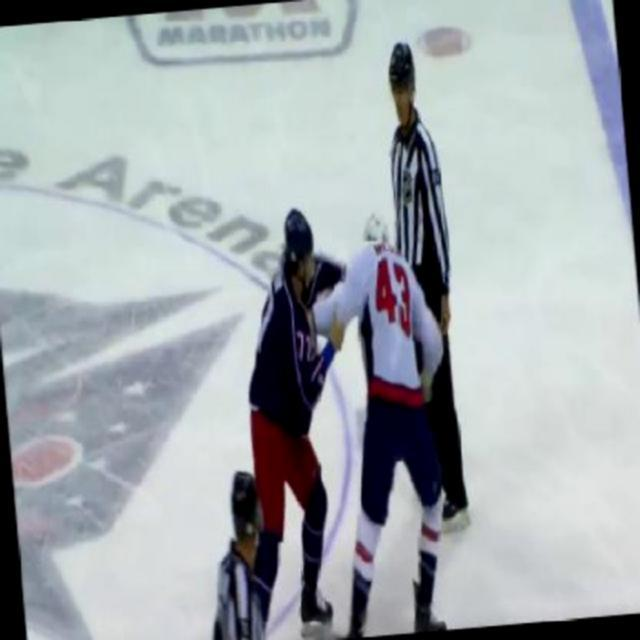fight: (229, 200, 474, 638)
